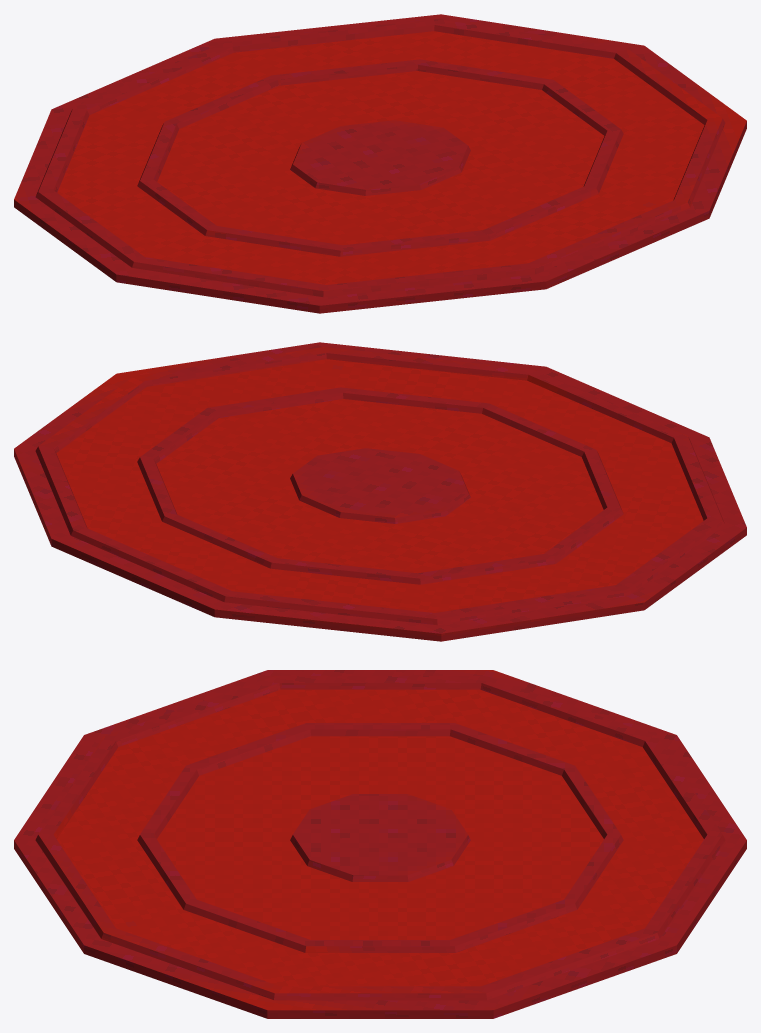
File: Tapete.glb
The picture shows the model from 3 angles, top to bottom: view 1: azimuth 30°, elevation 25°; view 2: azimuth 150°, elevation 25°; view 3: azimuth 270°, elevation 25°; orthographic projection. The views are drawn at different scales.
Visible parts, largest first — view 1: Tapete; view 2: Tapete; view 3: Tapete.
Boxes of the visible parts, left/top/right/bottom form: Tapete: left=14, top=14, right=746, bottom=313; Tapete: left=14, top=342, right=746, bottom=641; Tapete: left=14, top=670, right=746, bottom=1018.
Size of the model in its own units: 7.64 by 0.1491 by 6.96.
1 material, 1 textured.
